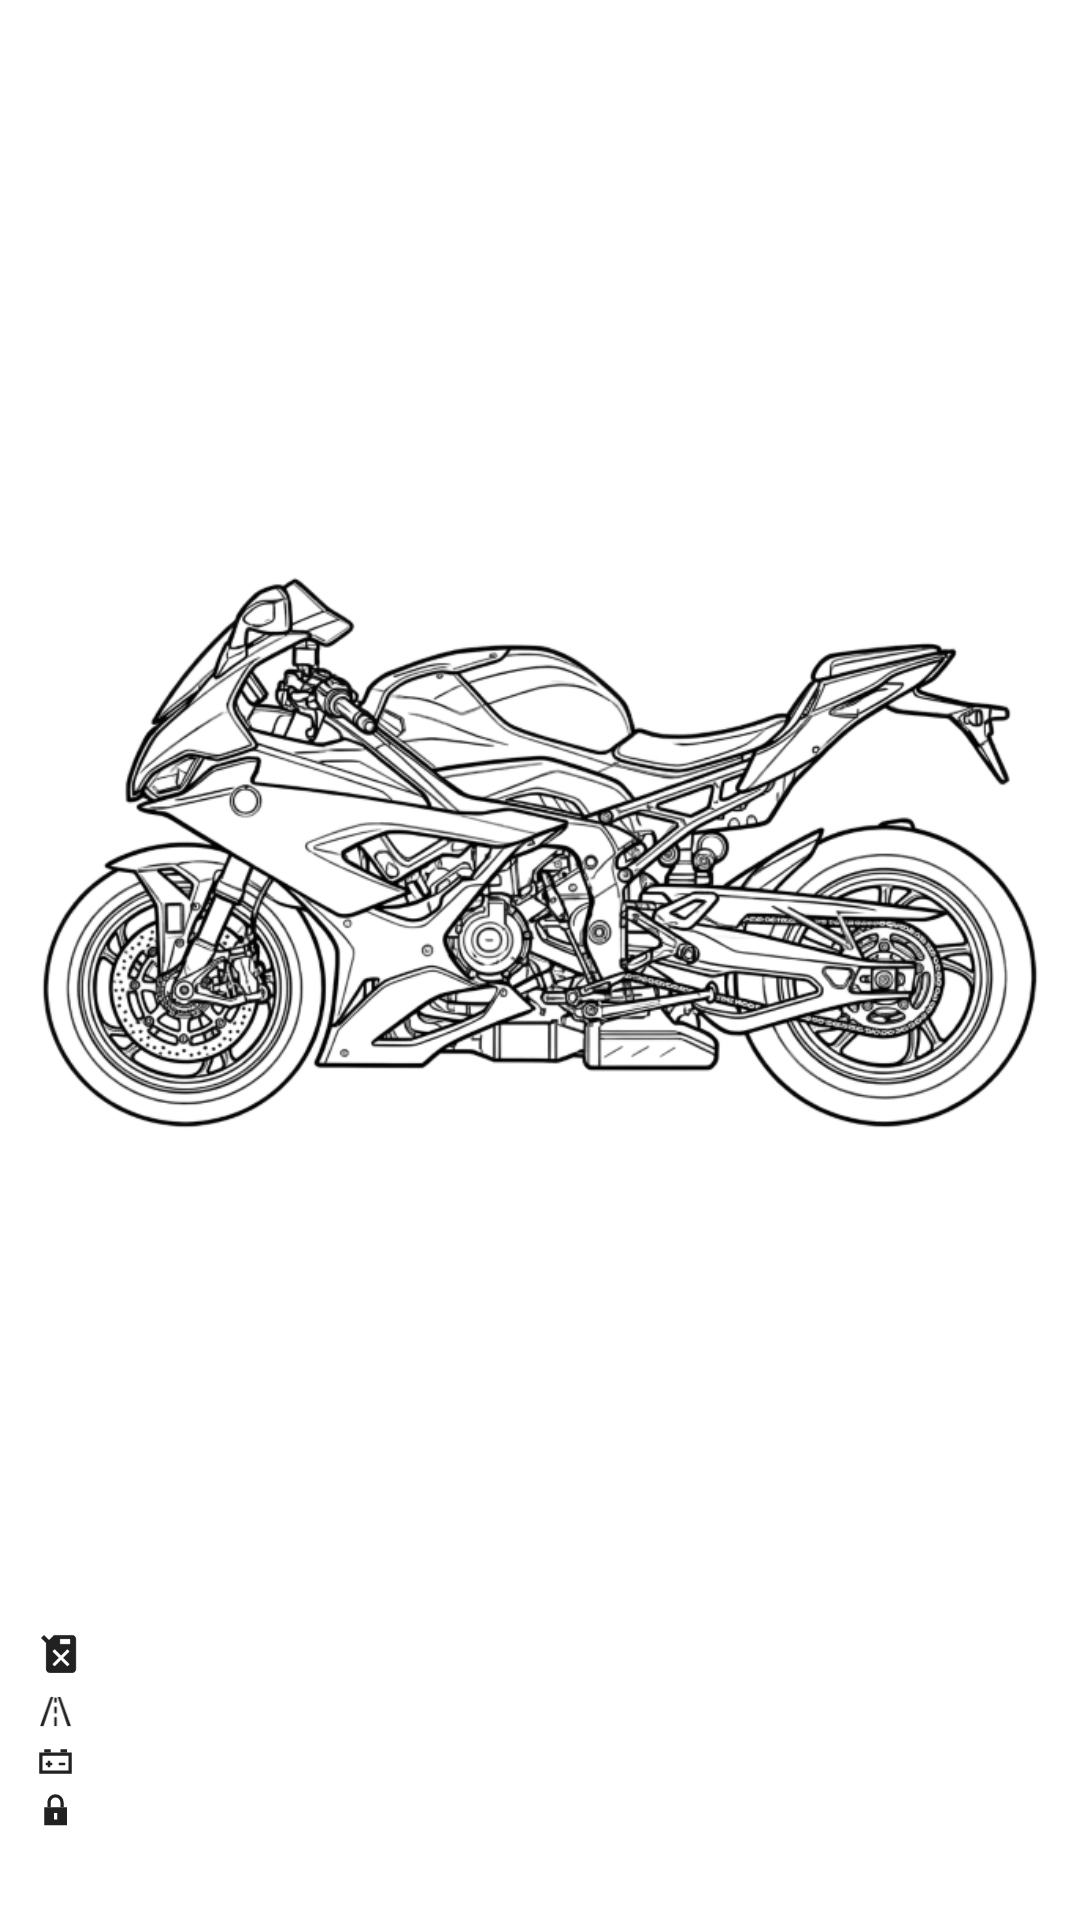

Locate icon controls on the screen. Image size 1080*1920, boxes as {"left": x1, "top": y1, "right": x2, "bottom": y2}.
widget battery: {"left": 39, "top": 1749, "right": 72, "bottom": 1774}
widget fuel: {"left": 41, "top": 1635, "right": 77, "bottom": 1673}
widget locked: {"left": 44, "top": 1794, "right": 67, "bottom": 1826}
widget range: {"left": 40, "top": 1697, "right": 71, "bottom": 1727}
